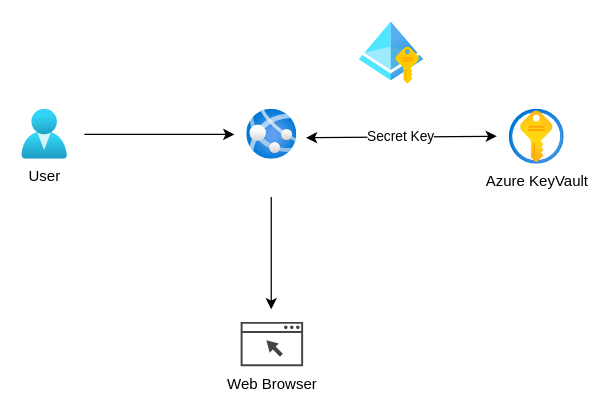
Some shapes in this 609 by 414 pixel diagram are drawn without their labels. Here are the shapes that lost their labels. From the top down, the centre of each, then its label:
At (x=391, y=52): "Managed Identities".
At (x=271, y=134): "WebApp".
